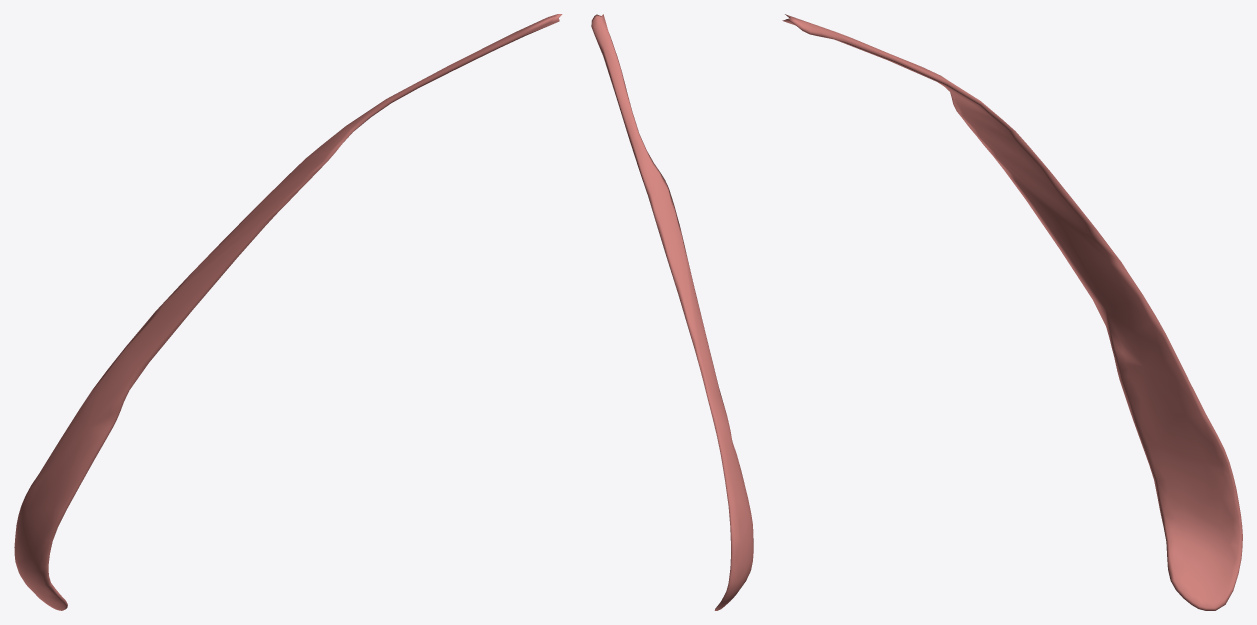
3 views of the same model, side by side, from view 1: azimuth 30°, elevation 25°; view 2: azimuth 150°, elevation 25°; view 3: azimuth 270°, elevation 25° (orthographic). The views are drawn at different scales.
Visible parts, largest first — view 1: ZA_7368cf82fbc75783; view 2: ZA_7368cf82fbc75783; view 3: ZA_7368cf82fbc75783.
Part boxes in pixels (bbox=[...]): ZA_7368cf82fbc75783: bbox=[14, 14, 562, 610]; ZA_7368cf82fbc75783: bbox=[591, 14, 753, 610]; ZA_7368cf82fbc75783: bbox=[782, 14, 1242, 610].
Bounding box in the file's own units: 0.0375 × 0.0605 × 0.0316.
